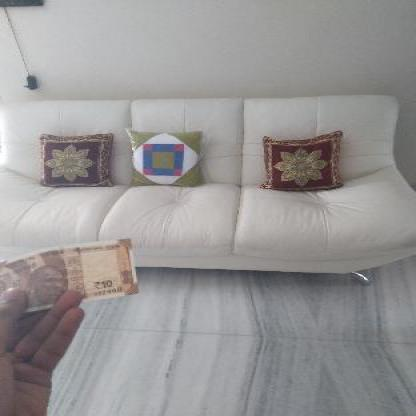New10Front: (0, 240, 135, 311)
